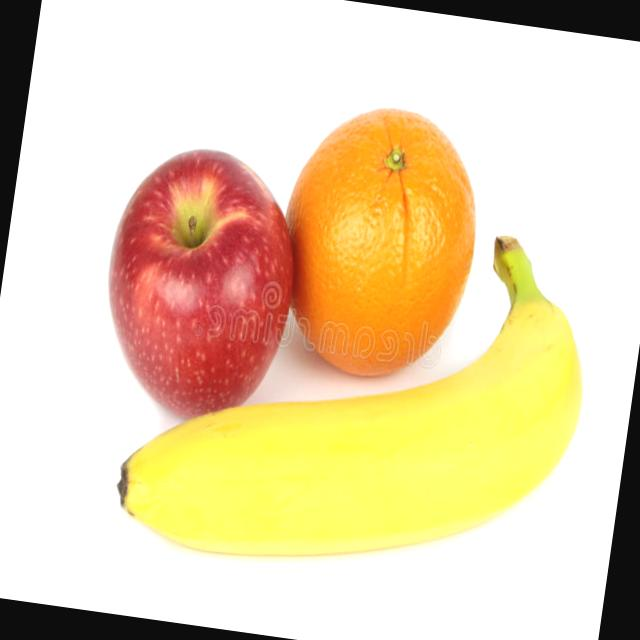apple: (91, 138, 311, 452)
banana: (102, 233, 604, 634)
orange: (262, 88, 494, 402)
